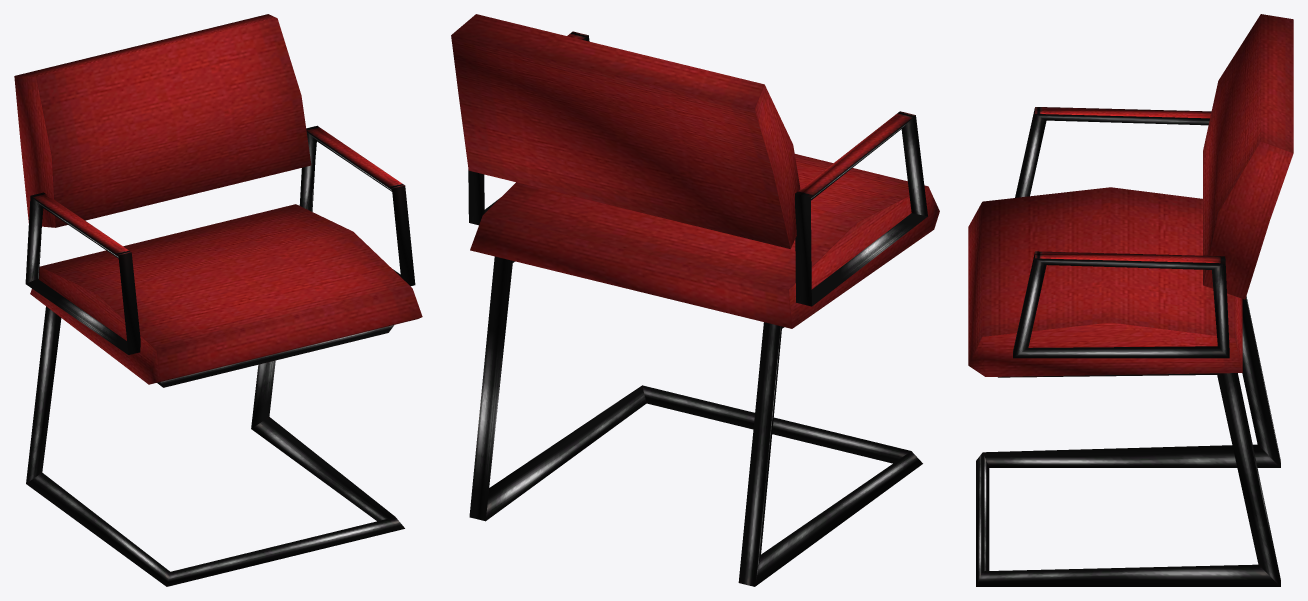
Rendered from chr_med_reg_red.fbx.
The picture shows the model from 3 angles, left to right: view 1: azimuth 30°, elevation 25°; view 2: azimuth 150°, elevation 25°; view 3: azimuth 270°, elevation 25°; orthographic projection. The views are drawn at different scales.
Visible parts, largest first — view 1: mesh_0; view 2: mesh_0; view 3: mesh_0.
Boxes of the visible parts, x1,y1,x2,y2 form: mesh_0: [14, 14, 422, 586]; mesh_0: [451, 14, 939, 586]; mesh_0: [968, 14, 1293, 586].
Bounding box in the file's own units: 62.24 × 84.81 × 55.86.
1 material, 1 textured.
